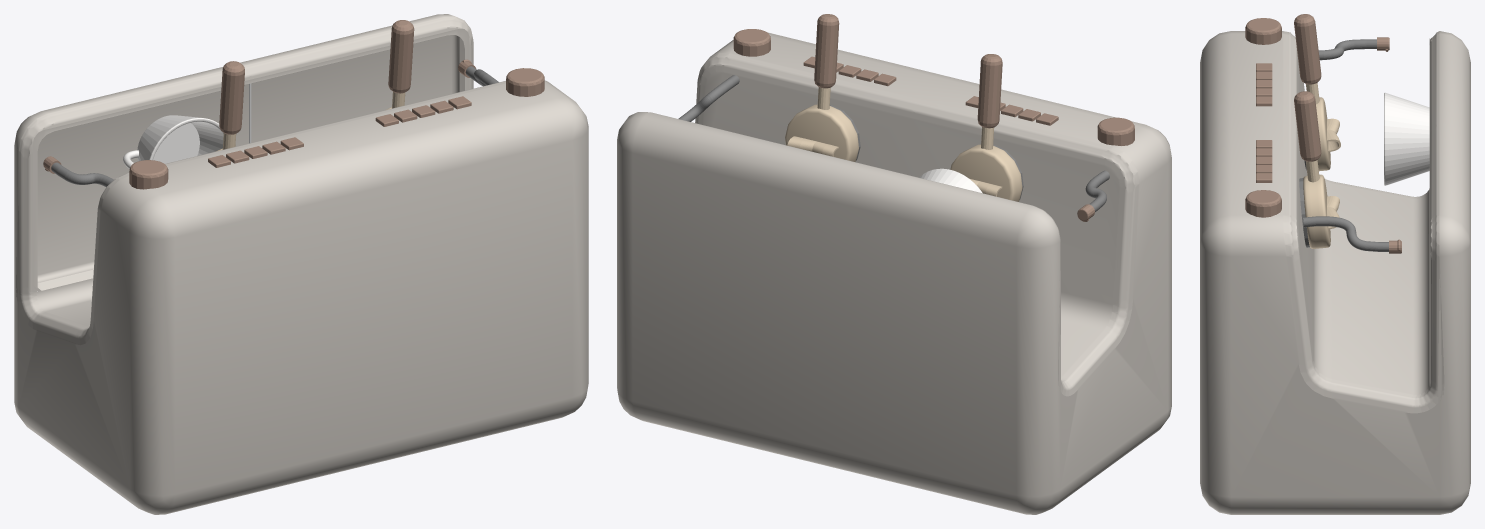
File: coffee.gltf
3 renders of one model, left to right at view 1: azimuth 30°, elevation 25°; view 2: azimuth 150°, elevation 25°; view 3: azimuth 270°, elevation 25°, orthographic. The views are drawn at different scales.
Parts seen in each view (by area): view 1: Boole, Cylinder.4 (×2), 잔, Cylinder.3, Cylinder.6, Sweep; view 2: Boole, Cylinder.2 (×2), Cylinder.4 (×2), Cylinder.3, Cylinder.6, 잔, Sweep.1; view 3: Boole, 잔, Cylinder.4 (×2), Cylinder.2 (×2), Sweep.1, Cylinder.6, Cylinder.3, Sweep, Extrude.
Boxes of the visible parts, bbox=[...] form: Boole: bbox=[14, 14, 588, 514]; Cylinder.4 (×2): bbox=[219, 20, 414, 134]; 잔: bbox=[137, 115, 223, 163]; Cylinder.3: bbox=[129, 160, 168, 189]; Cylinder.6: bbox=[506, 68, 544, 96]; Sweep: bbox=[51, 162, 113, 187]; Boole: bbox=[617, 32, 1171, 514]; Cylinder.2 (×2): bbox=[785, 104, 1022, 201]; Cylinder.4 (×2): bbox=[814, 14, 1002, 128]; Cylinder.3: bbox=[1097, 117, 1134, 145]; Cylinder.6: bbox=[733, 29, 770, 56]; 잔: bbox=[919, 168, 982, 193]; Sweep.1: bbox=[678, 75, 739, 121]; Boole: bbox=[1200, 31, 1470, 514]; 잔: bbox=[1384, 92, 1429, 185]; Cylinder.4 (×2): bbox=[1294, 14, 1321, 161]; Cylinder.2 (×2): bbox=[1303, 97, 1330, 248]; Sweep.1: bbox=[1303, 216, 1388, 251]; Cylinder.6: bbox=[1245, 190, 1281, 217]; Cylinder.3: bbox=[1245, 18, 1281, 44]; Sweep: bbox=[1318, 39, 1376, 60]; Extrude: bbox=[1327, 118, 1340, 151].
Bounding box in the file's own units: 62.99 × 51.63 × 34.51.
